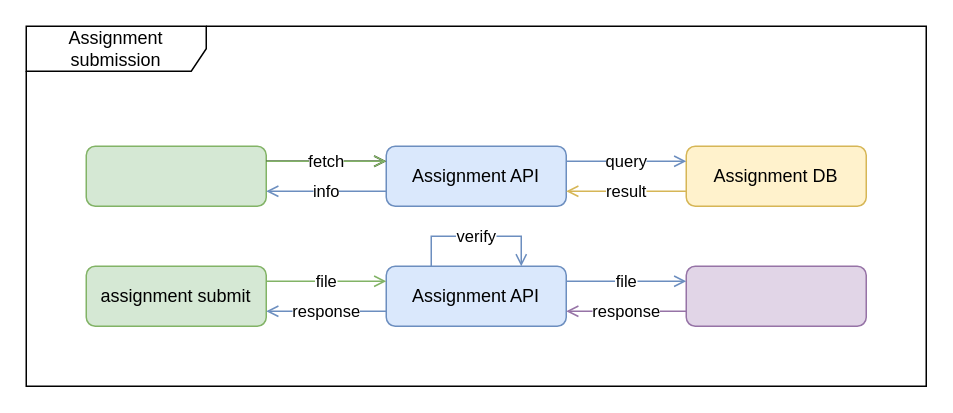
This 953x413 diagram has some shape labels left out. The box of each missing label's shape, as (x1, y1, x2, y2) in pixels:
assignment dashboard: (85, 145, 266, 206)
Assignment Storage: (685, 265, 866, 326)
